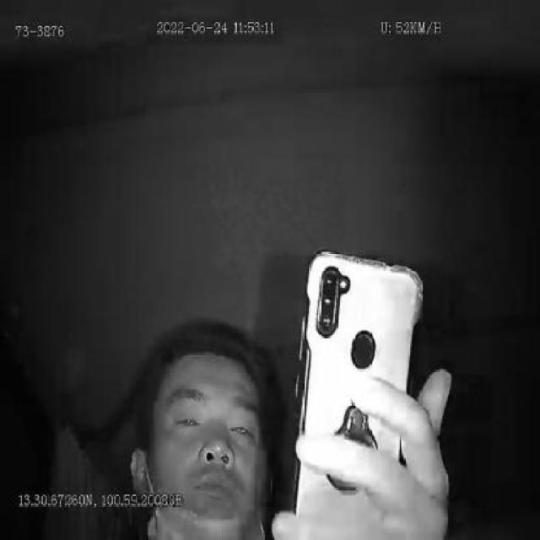phone: (293, 248, 423, 540)
